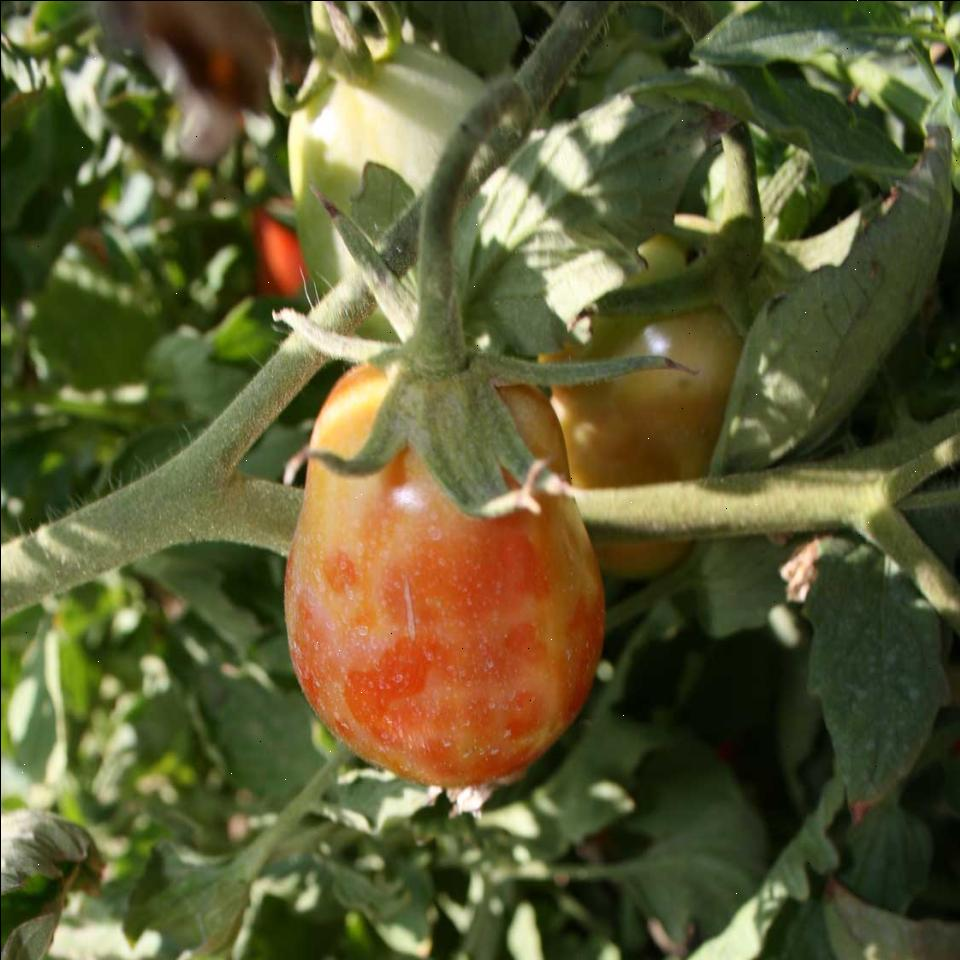Spotted wilt Virus: (285, 341, 611, 792)
